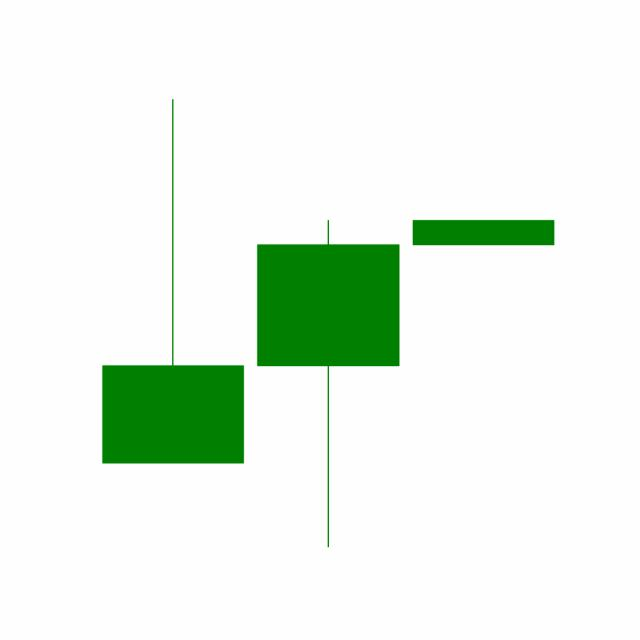Hammer: (249, 216, 406, 550)
